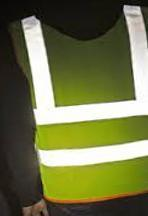Vest: (12, 16, 148, 198)
